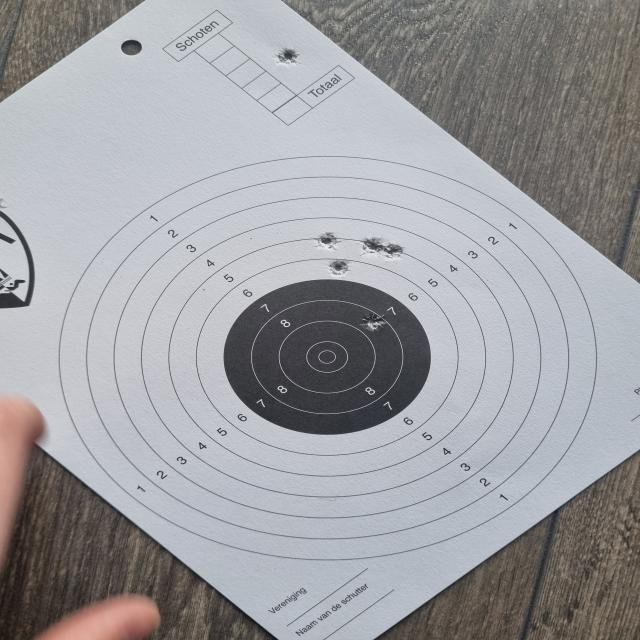6: (380, 242, 406, 262), (316, 232, 342, 250), (361, 236, 382, 254)
7: (328, 260, 351, 276)
9: (358, 310, 386, 332)
Black Contour: (224, 280, 430, 434)
Target: (59, 155, 598, 560)
hole: (274, 48, 298, 66)
